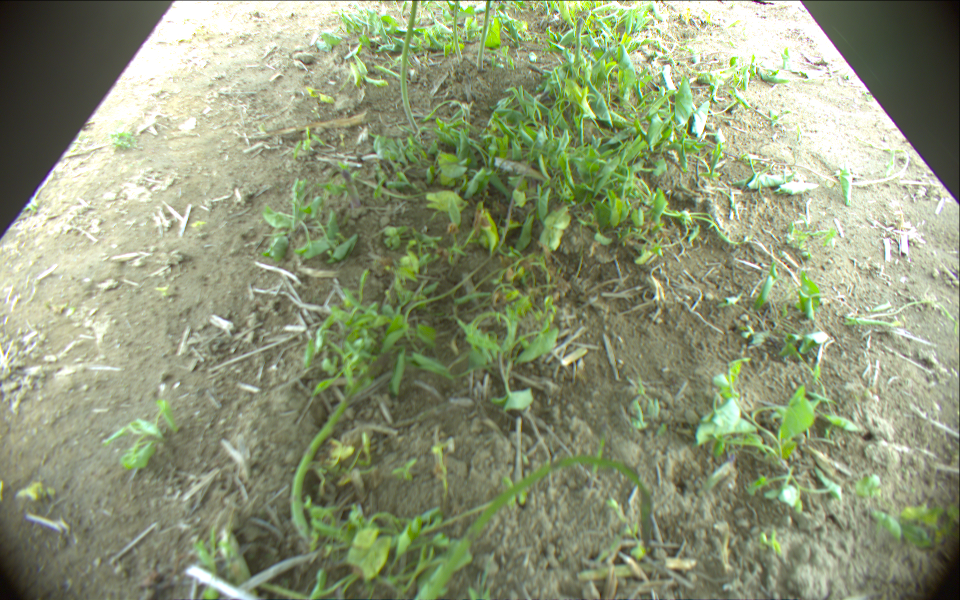aspa: (413, 454, 652, 600), (289, 391, 356, 545), (400, 1, 418, 131), (476, 1, 490, 68), (342, 168, 360, 209), (573, 16, 587, 60), (453, 1, 462, 59)
